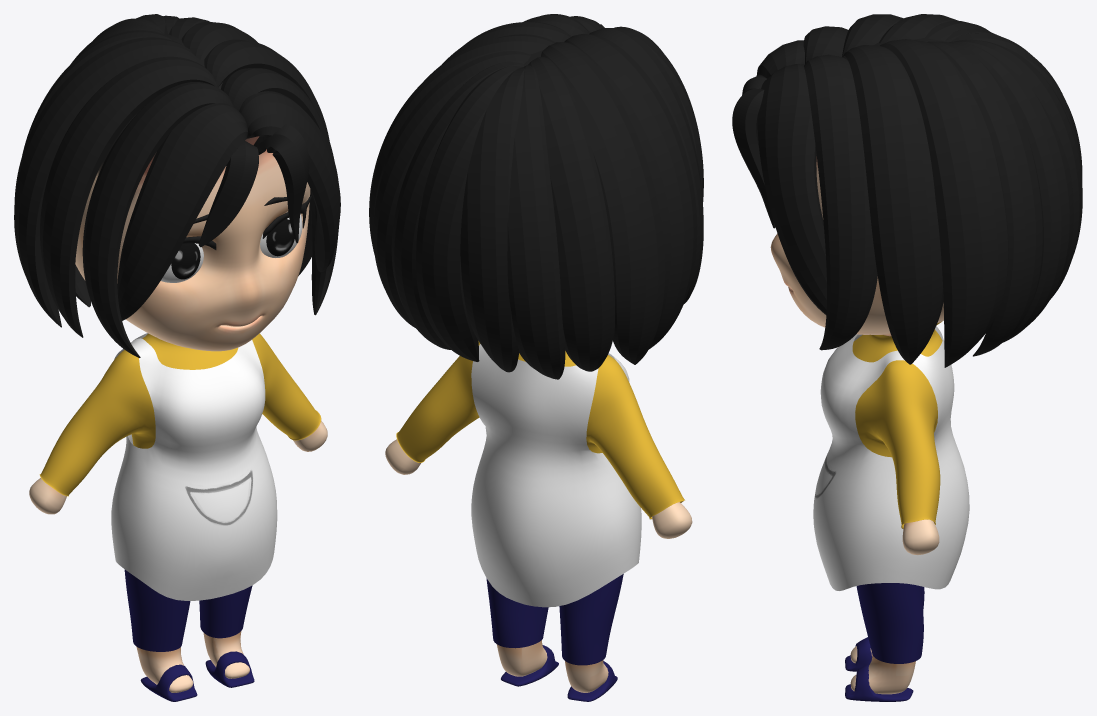
Rendered from ibu_2.fbx.
3 views of the same model, side by side, from view 1: azimuth 30°, elevation 25°; view 2: azimuth 150°, elevation 25°; view 3: azimuth 270°, elevation 25° (orthographic). The views are drawn at different scales.
Parts seen in each view (by area): view 1: Base.005; view 2: Base.005; view 3: Base.005.
Boxes of the visible parts, x1=… form: Base.005: x1=14, y1=14, x2=340, y2=701; Base.005: x1=369, y1=14, x2=703, y2=701; Base.005: x1=732, y1=14, x2=1082, y2=701.
Bounding box in the file's own units: 80.05 × 166 × 81.26.
Materials: 7 (5 with a texture image).
